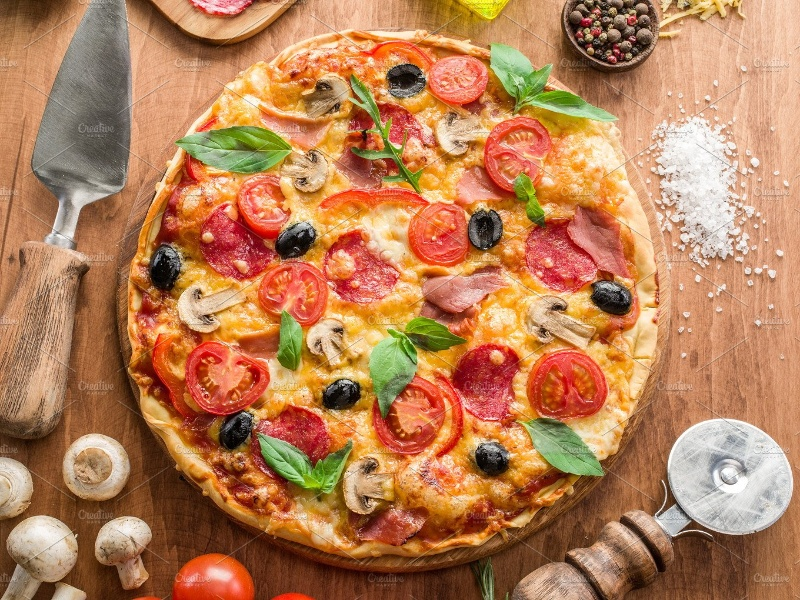olive noir: (589, 269, 631, 318), (275, 216, 322, 258), (147, 245, 184, 293), (318, 375, 364, 410), (469, 210, 508, 251), (387, 60, 429, 98), (218, 413, 253, 453)
pepperonis: (455, 342, 526, 424)
